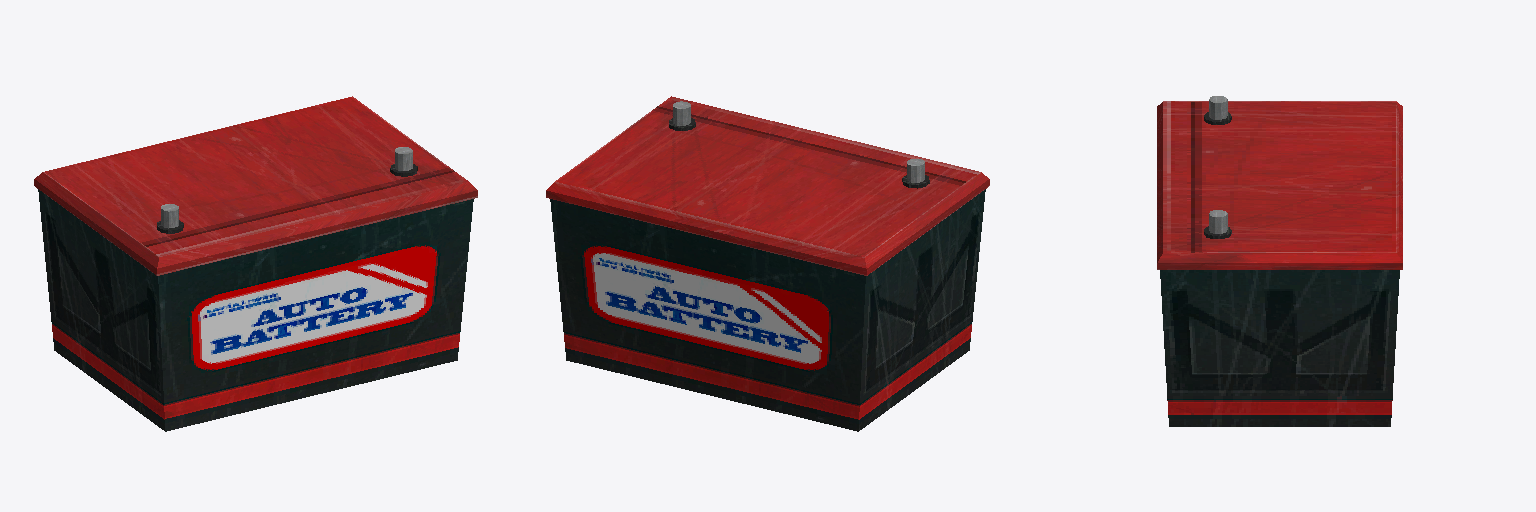
3 views of the same model, side by side, from view 1: azimuth 30°, elevation 25°; view 2: azimuth 150°, elevation 25°; view 3: azimuth 270°, elevation 25° (orthographic).
Parts seen in each view (by area): view 1: Battery__DR2_; view 2: Battery__DR2_; view 3: Battery__DR2_.
Boxes of the visible parts, x1=… form: Battery__DR2_: x1=34, y1=96, x2=477, y2=431; Battery__DR2_: x1=546, y1=96, x2=989, y2=431; Battery__DR2_: x1=1157, y1=96, x2=1402, y2=426.
Size of the model in its own units: 0.127 by 0.0754 by 0.0842.
Materials: 1 (1 with a texture image).